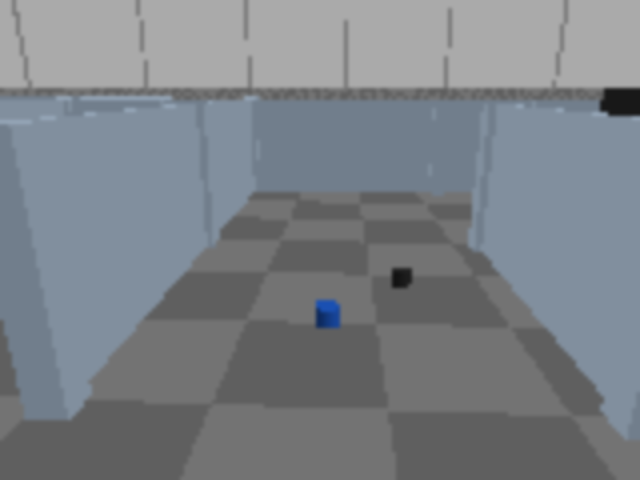puck: (314, 300, 341, 329), (393, 267, 409, 287)
